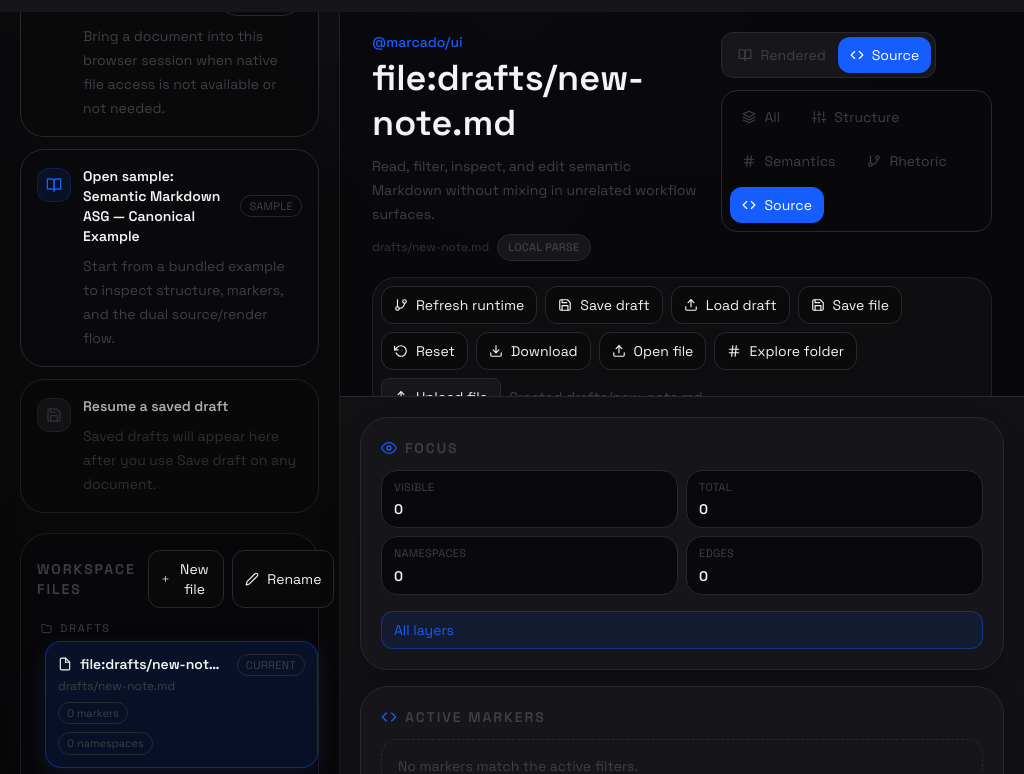
App Integration — @marcado/ui workspace flows › creates a new workspace file and preserves edits after rename
Earlier steps of the test are not shown.
(page scrolled)
What coordinates should you click on to do the following:
click the button "Rename"
I would click on:
 (283, 579)
Its box is [232,550,334,608].
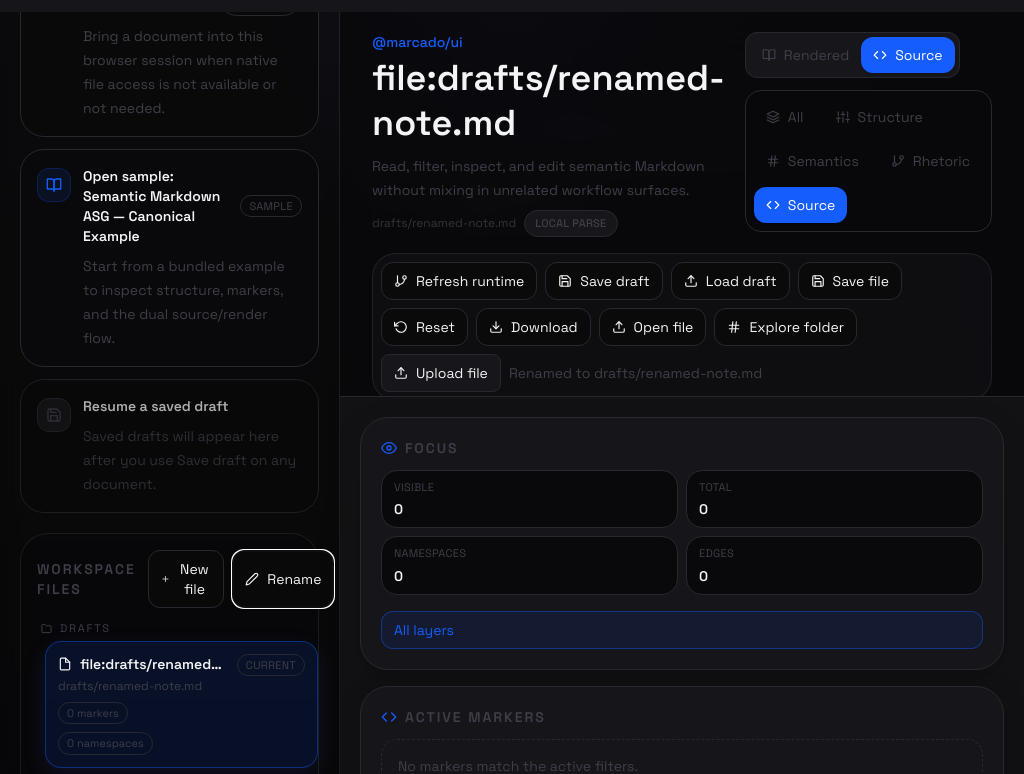
Expected: the text "file:drafts/renamed-note.md" is shown, [80,654,225,674]
